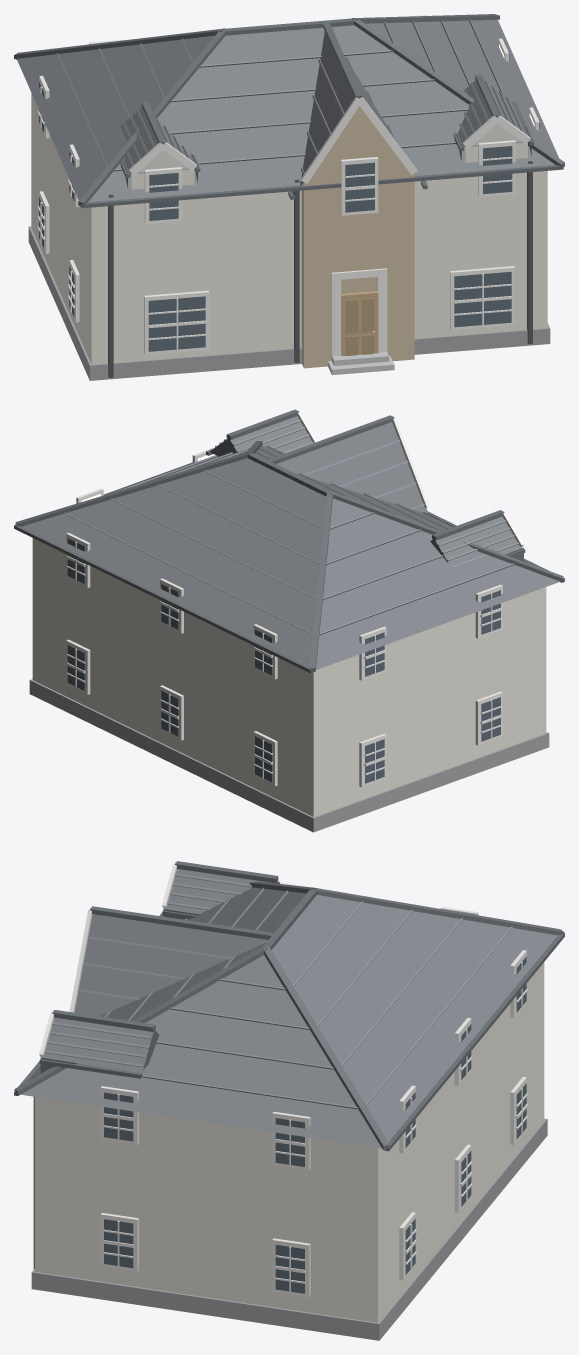
3 views of the same model, one above another, from view 1: azimuth 30°, elevation 25°; view 2: azimuth 150°, elevation 25°; view 3: azimuth 270°, elevation 25° (orthographic). The views are drawn at different scales.
Visible parts, largest first — view 1: slate, harl_cream, larch, frame, slate_dk, plinth, slate_lt, pipe, window_glass_004, window_glass_005, door_wood_p, window_glass_003 (+5 smaller); view 2: harl_cream, slate, slate_dk, plinth, frame, slate_lt, window_glass_018, window_glass_016, window_glass_008, window_glass_006, window_glass_010, window_glass_017 (+1 smaller); view 3: slate, harl_cream, slate_dk, plinth, frame, slate_lt, window_glass_012, window_glass_014, window_glass_013, window_glass_015.
Part boxes in pixels (bbox=[...]): slate: bbox=[16, 19, 558, 202]; harl_cream: bbox=[31, 93, 547, 364]; larch: bbox=[301, 106, 414, 368]; frame: bbox=[38, 15, 539, 356]; slate_dk: bbox=[14, 14, 564, 208]; plinth: bbox=[28, 226, 550, 380]; slate_lt: bbox=[57, 19, 523, 174]; pipe: bbox=[108, 161, 532, 377]; window_glass_004: bbox=[454, 271, 511, 327]; window_glass_005: bbox=[148, 296, 205, 351]; door_wood_p: bbox=[346, 298, 373, 355]; window_glass_003: bbox=[345, 162, 374, 212]; harl_cream: bbox=[32, 517, 546, 816]; slate: bbox=[22, 416, 559, 669]; slate_dk: bbox=[14, 409, 564, 673]; plinth: bbox=[29, 679, 549, 832]; frame: bbox=[66, 409, 524, 787]; slate_lt: bbox=[64, 419, 518, 635]; window_glass_018: bbox=[481, 697, 500, 741]; window_glass_016: bbox=[365, 739, 384, 783]; window_glass_008: bbox=[161, 691, 178, 736]; window_glass_006: bbox=[67, 645, 84, 690]; window_glass_010: bbox=[255, 736, 271, 782]; window_glass_017: bbox=[365, 632, 384, 676]; slate: bbox=[21, 869, 557, 1148]; harl_cream: bbox=[34, 962, 544, 1322]; slate_dk: bbox=[14, 861, 564, 1151]; plinth: bbox=[31, 1118, 547, 1340]; frame: bbox=[39, 861, 527, 1297]; slate_lt: bbox=[44, 873, 512, 1109]; window_glass_012: bbox=[104, 1219, 133, 1268]; window_glass_014: bbox=[275, 1245, 304, 1293]; window_glass_013: bbox=[104, 1092, 133, 1141]; window_glass_015: bbox=[275, 1118, 304, 1166].
Size of the model in its own units: 15.6 by 7.9 by 13.4.
